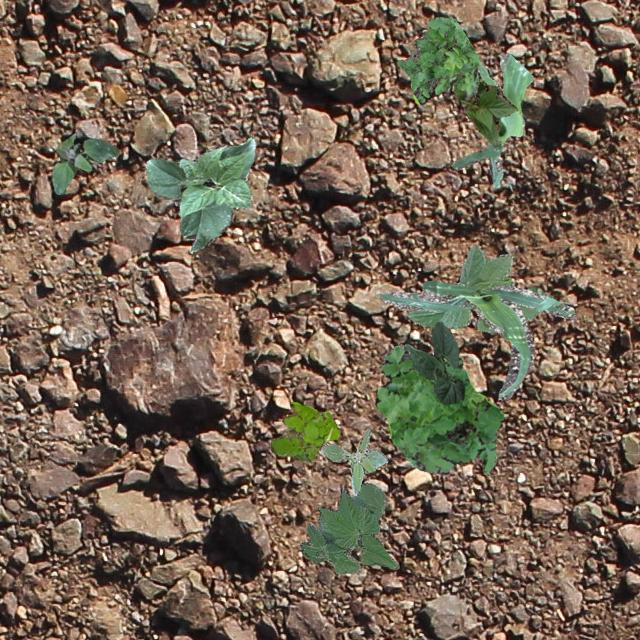crop: (377, 280, 576, 400), (144, 136, 254, 252), (408, 245, 552, 332), (452, 52, 532, 186), (300, 482, 398, 572), (404, 321, 464, 404), (452, 74, 516, 142)
weed: (373, 342, 502, 474), (396, 17, 478, 104), (319, 428, 386, 494), (50, 132, 118, 194), (270, 400, 338, 460)
